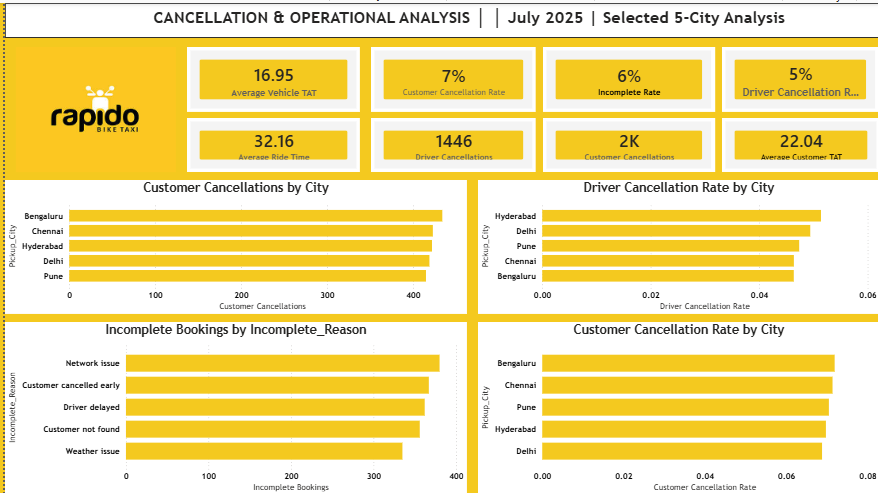

What the dashboard file says about the page in this screenshot:
{"tool":"powerbi","page":{"name":"Cancellation & Operations","canvas":[1280,720],"ordinal":1},"visuals":[{"type":"cardVisual","fields":{"Data":["Daily_Operations.Driver Cancellations"]},"box":[535.6,159.5,241.5,87.8],"z":0},{"type":"cardVisual","fields":{"Data":["Daily_Operations.Customer Cancellation Rate"]},"box":[535.6,64.4,241.5,92.2],"z":1000},{"type":"cardVisual","fields":{"Data":["Daily_Operations.Driver Cancellation Rate"]},"box":[1049.3,64.4,229.8,92.2],"z":2000},{"type":"cardVisual","fields":{"Data":["Daily_Operations.Incomplete Rate"]},"box":[787.3,64.4,251.7,92.2],"z":3000},{"type":"clusteredBarChart","title":"Customer Cancellations by City","fields":{"Category":["Fact_Bookings.Pickup_City"],"Y":["Daily_Operations.Customer Cancellations"]},"box":[0,259,676.1,196.1],"z":4000},{"type":"clusteredBarChart","title":"Customer Cancellation Rate by City","fields":{"Category":["Fact_Bookings.Pickup_City"],"Y":["Daily_Operations.Customer Cancellation Rate"]},"box":[692.2,466.8,588.3,253.2],"z":5000},{"type":"clusteredBarChart","title":"Driver Cancellation Rate by City","fields":{"Category":["Fact_Bookings.Pickup_City"],"Y":["Daily_Operations.Driver Cancellation Rate"]},"box":[692.2,262,588.3,196.1],"z":6000},{"type":"cardVisual","fields":{"Data":["KPI.Average Customer TAT"]},"box":[1049.3,159.5,231.2,87.8],"z":7000},{"type":"cardVisual","fields":{"Data":["KPI.Average Ride Time"]},"box":[266.3,159.5,253.2,87.8],"z":8000},{"type":"cardVisual","fields":{"Data":["KPI.Average Vehicle TAT"]},"box":[266.3,64.4,253.2,92.2],"z":9000},{"type":"clusteredBarChart","fields":{"Category":["Fact_Bookings.Incomplete_Reason"],"Y":["Daily_Operations.Incomplete Bookings"]},"box":[0,466.8,676.1,253.2],"z":10000},{"type":"textbox","box":[0,10.2,1279,43.9],"z":11000},{"type":"cardVisual","fields":{"Data":["Daily_Operations.Customer Cancellations"]},"box":[787.3,159.5,251.7,87.8],"z":12000},{"type":"image","box":[0,64.4,254.6,182.9],"z":13000}]}

Visuals, with their boxes in screenshot pixels (x1, y1, x2, y2), scaled from the page's 1280x720 canvas onto the 878x493 screenshot:
cardVisual - Daily_Operations.Driver Cancellations: detection(367, 109, 533, 169)
cardVisual - Daily_Operations.Customer Cancellation Rate: detection(367, 44, 533, 107)
cardVisual - Daily_Operations.Driver Cancellation Rate: detection(720, 44, 877, 107)
cardVisual - Daily_Operations.Incomplete Rate: detection(540, 44, 713, 107)
"Customer Cancellations by City" clusteredBarChart: detection(0, 177, 464, 312)
"Customer Cancellation Rate by City" clusteredBarChart: detection(475, 320, 877, 492)
"Driver Cancellation Rate by City" clusteredBarChart: detection(475, 179, 877, 314)
cardVisual - KPI.Average Customer TAT: detection(720, 109, 877, 169)
cardVisual - KPI.Average Ride Time: detection(183, 109, 356, 169)
cardVisual - KPI.Average Vehicle TAT: detection(183, 44, 356, 107)
clusteredBarChart - Fact_Bookings.Incomplete_Reason x Daily_Operations.Incomplete Bookings: detection(0, 320, 464, 492)
textbox: detection(0, 7, 877, 37)
cardVisual - Daily_Operations.Customer Cancellations: detection(540, 109, 713, 169)
image: detection(0, 44, 175, 169)
